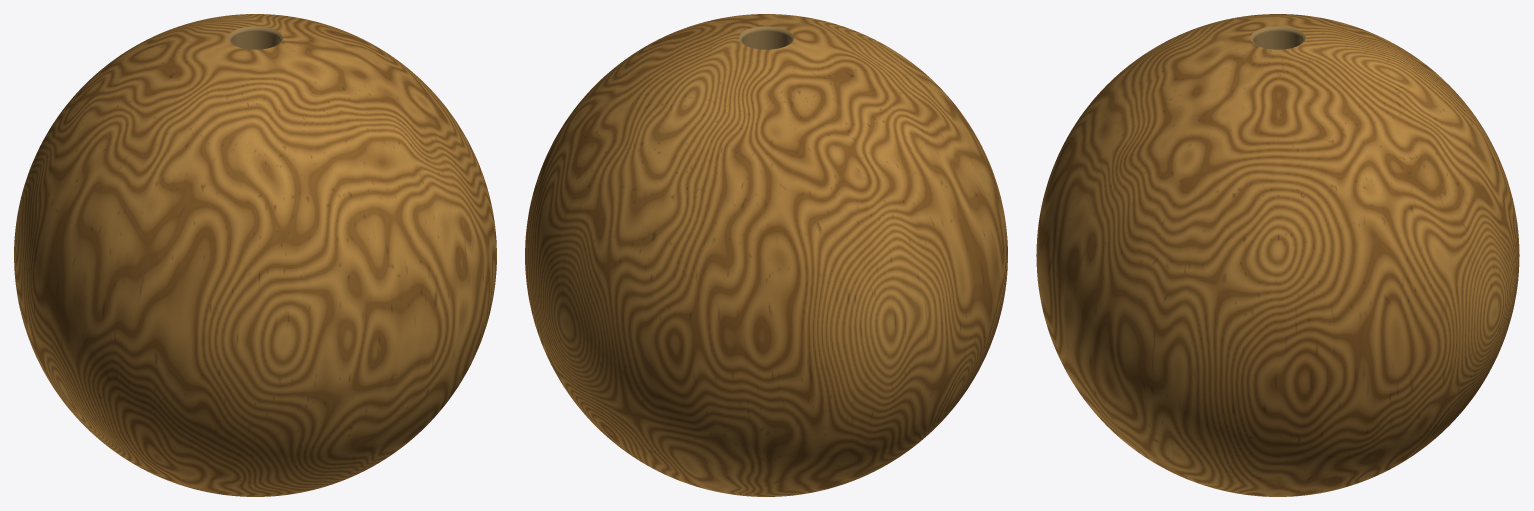
The model's file is wood-golden-camphor-10mm.glb.
3 views of the same model, side by side, from view 1: azimuth 30°, elevation 25°; view 2: azimuth 150°, elevation 25°; view 3: azimuth 270°, elevation 25° (orthographic).
Visible parts, largest first — view 1: golden-camphor; view 2: golden-camphor; view 3: golden-camphor.
Part boxes in pixels (bbox=[...]): golden-camphor: bbox=[14, 14, 496, 496]; golden-camphor: bbox=[525, 14, 1007, 496]; golden-camphor: bbox=[1036, 14, 1519, 496].
Bounding box in the file's own units: 0.01 × 0.00993 × 0.01.
2 materials, 1 textured.
